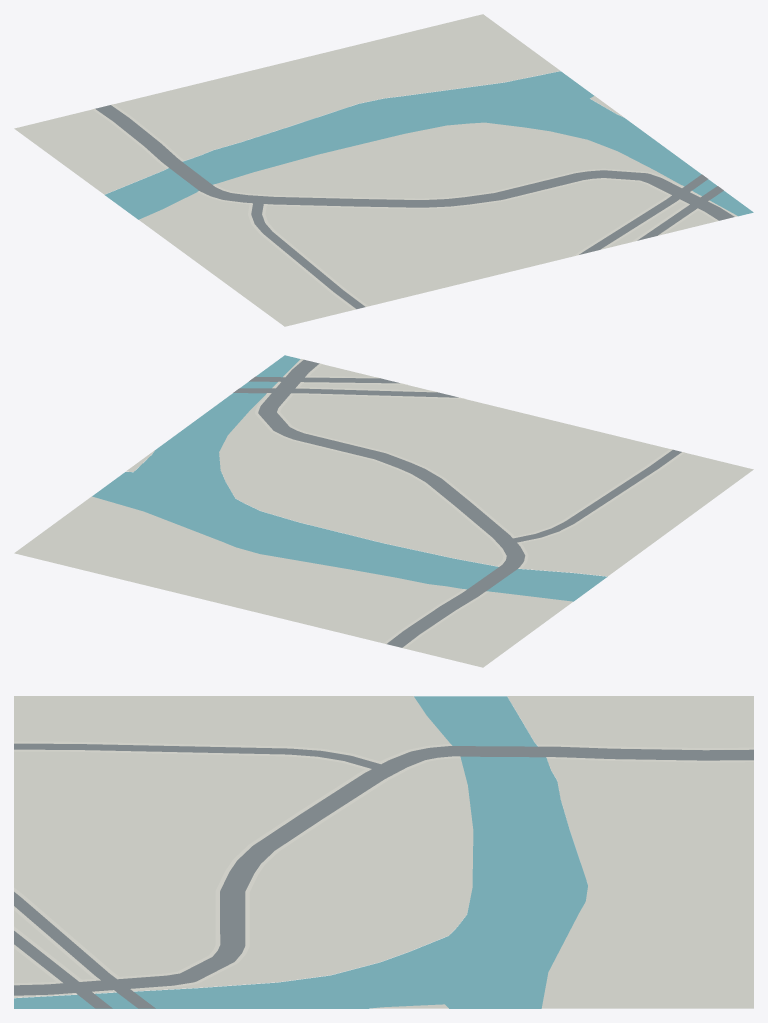
The picture shows the model from 3 angles, top to bottom: view 1: azimuth 30°, elevation 25°; view 2: azimuth 150°, elevation 25°; view 3: azimuth 270°, elevation 25°; orthographic projection. The views are drawn at different scales.
Visible parts, largest first — view 1: city; view 2: city; view 3: city.
Boxes of the visible parts, x1,y1,x2,y2 form: city: (14,14,753,326); city: (14,355,753,667); city: (14,696,753,1008).
Size of the model in its own units: 500 by 0.4 by 500.
